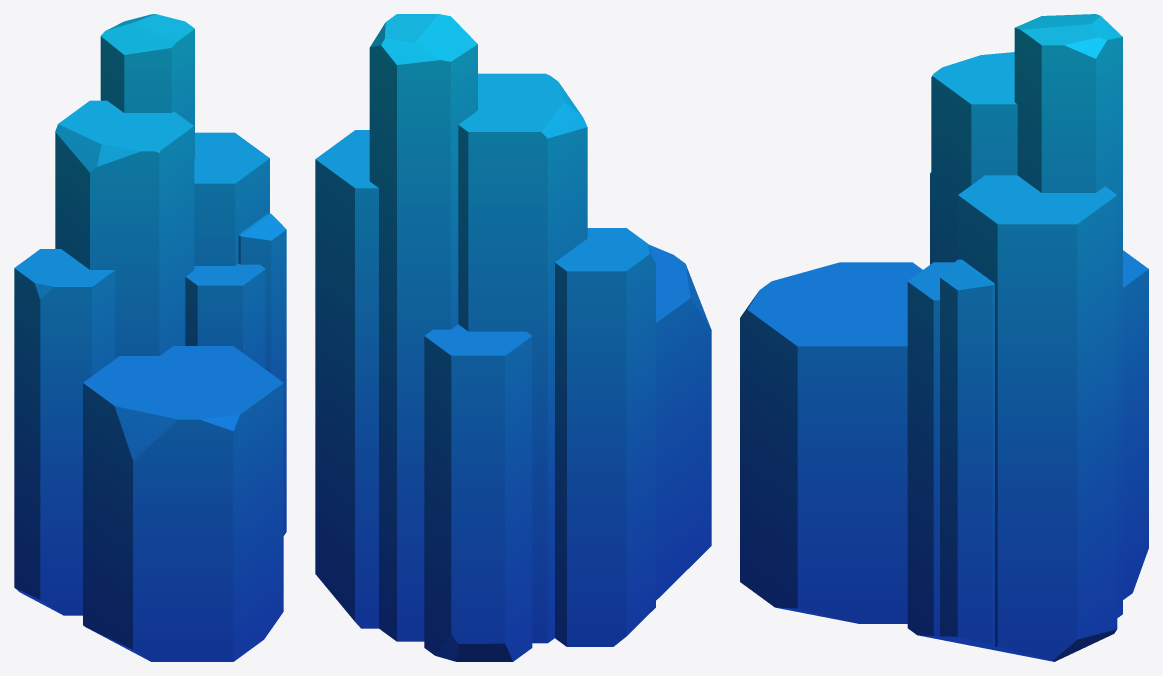
The model's file is crystal_05.glb.
The picture shows the model from 3 angles, left to right: view 1: azimuth 30°, elevation 25°; view 2: azimuth 150°, elevation 25°; view 3: azimuth 270°, elevation 25°; orthographic projection. The views are drawn at different scales.
Visible parts, largest first — view 1: crystal_14; view 2: crystal_14; view 3: crystal_14.
Boxes of the visible parts, x1=… form: crystal_14: x1=14, y1=14, x2=286, y2=661; crystal_14: x1=315, y1=14, x2=711, y2=661; crystal_14: x1=740, y1=14, x2=1148, y2=661.
Size of the model in its own units: 3.14 by 6.26 by 3.94.
1 material, 1 textured.
